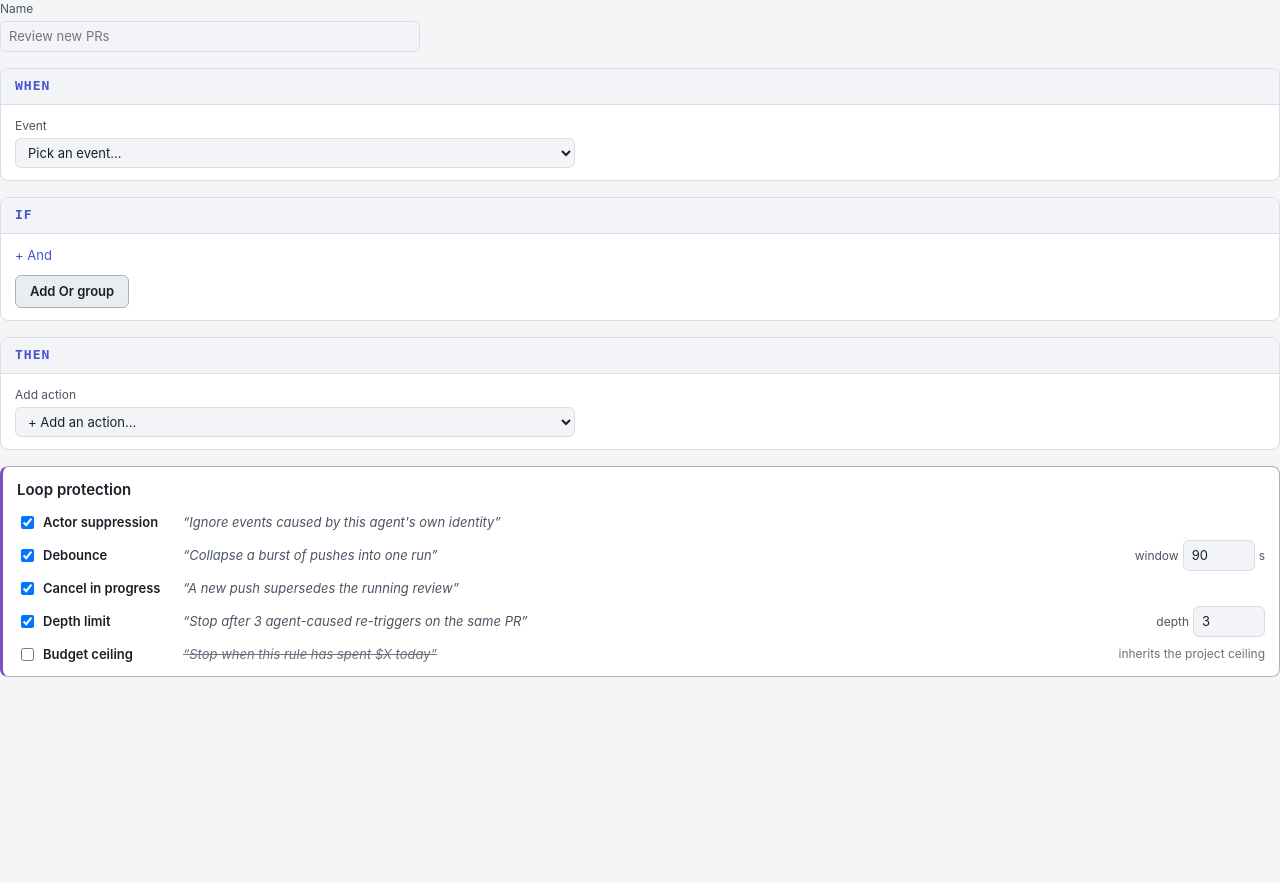
Test: catalog-driven editor › renders the novel action's schema and its interpolation picker
The width and height of the screenshot is (1280, 883).
Select "Storm warning" in the dropdown labelled "Event": (295, 154) [15,138,575,168]
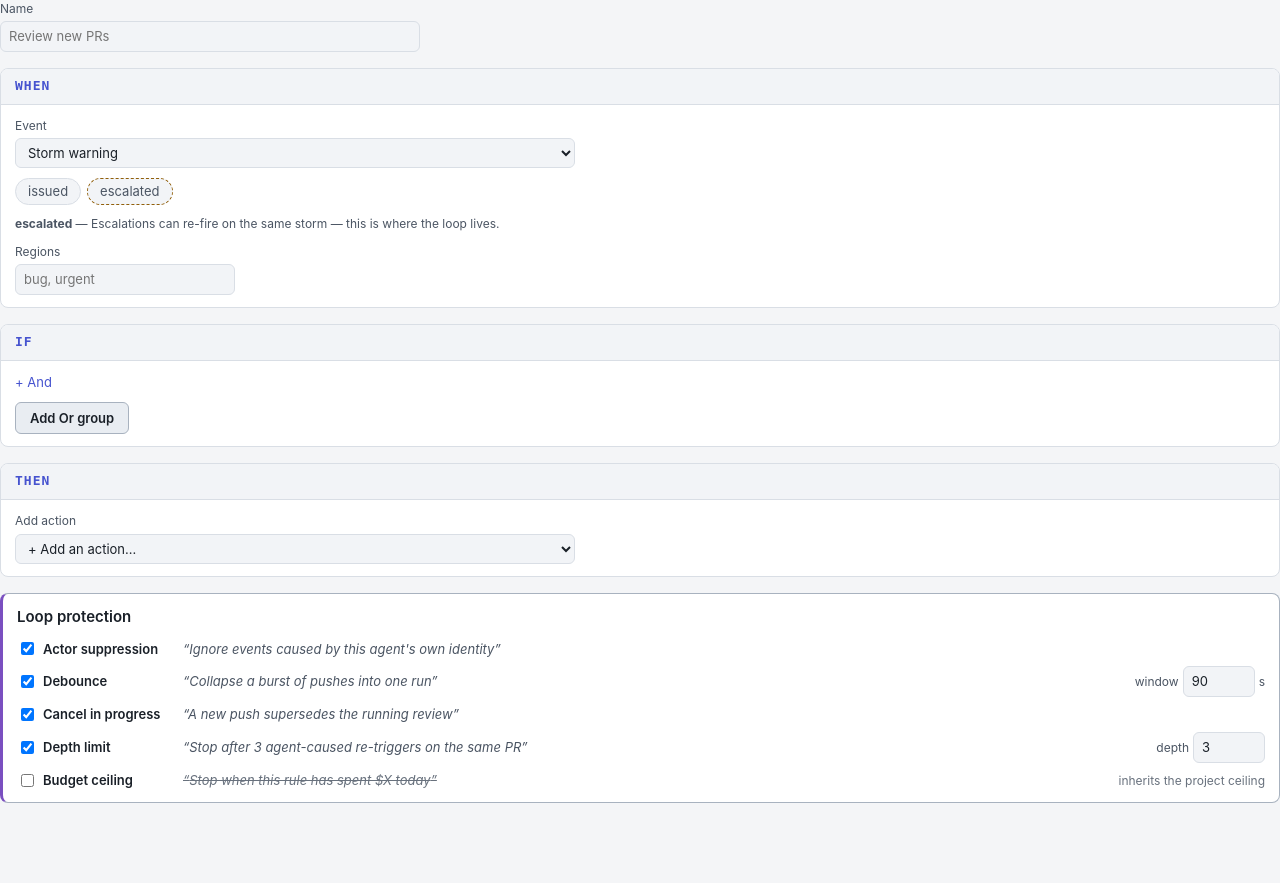
Select "Sound the alarm" in the dropdown labelled "Add action": (295, 549) [15,534,575,564]
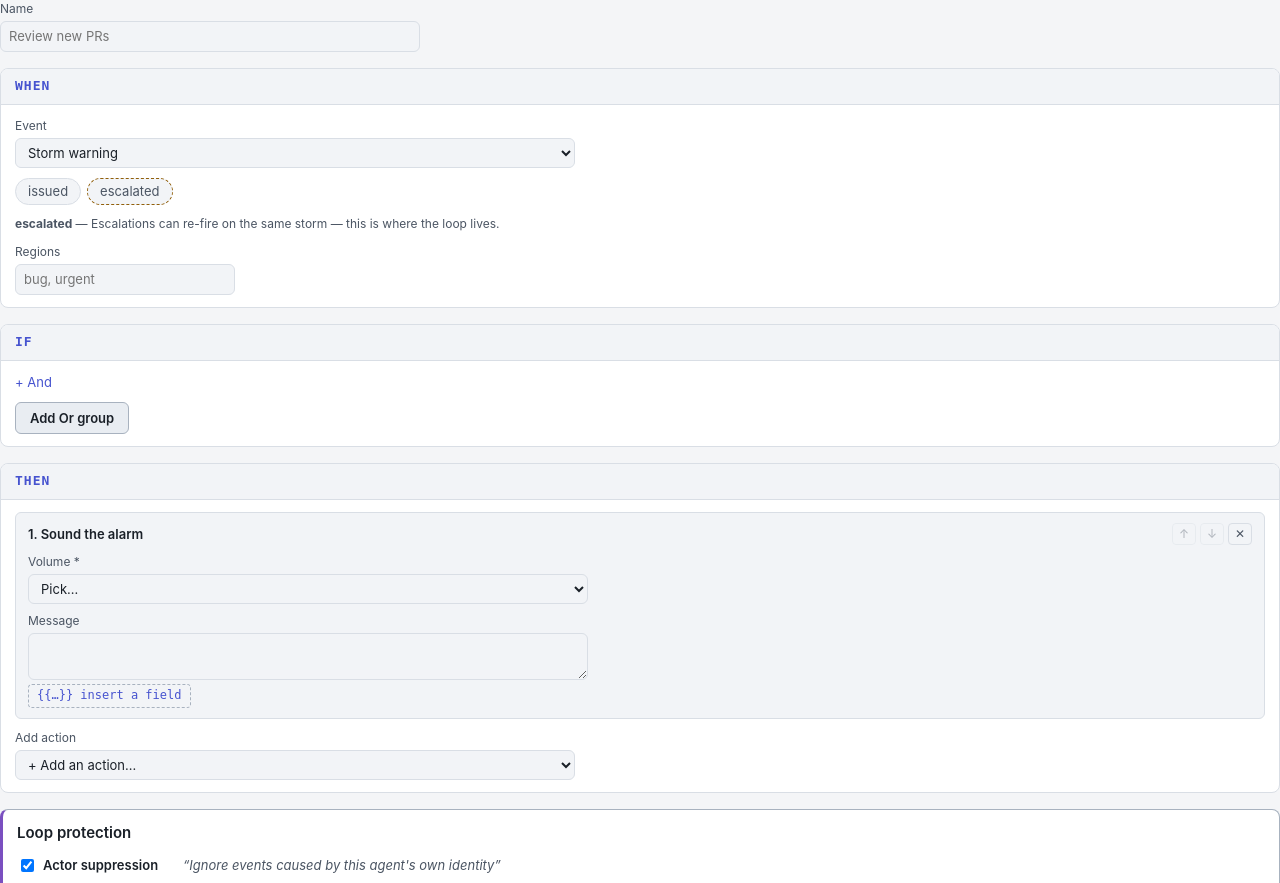
Click the button "{{…}} insert a field": (109, 696) [28,684,190,708]
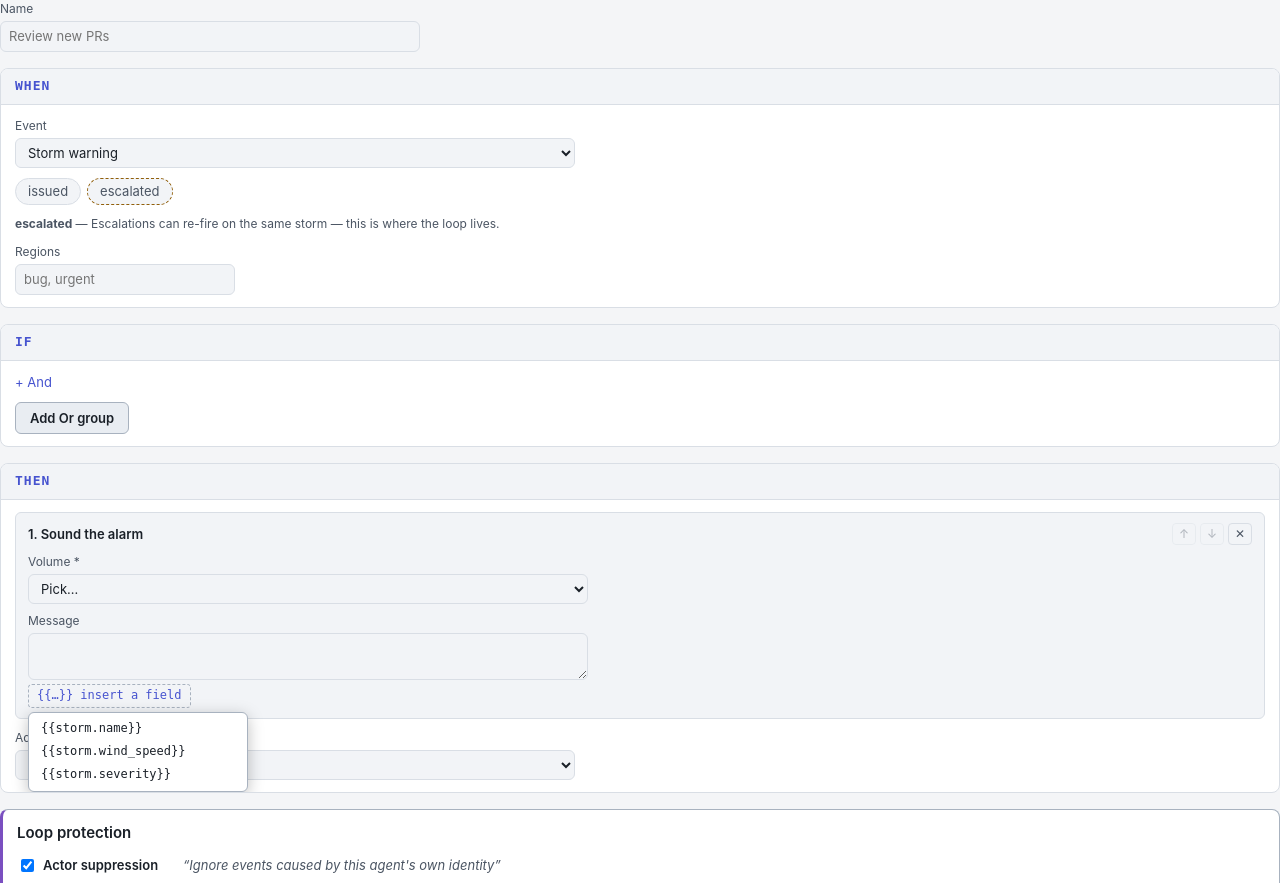
Click the menu item "{{storm.name}}": (138, 728) [33,717,243,740]
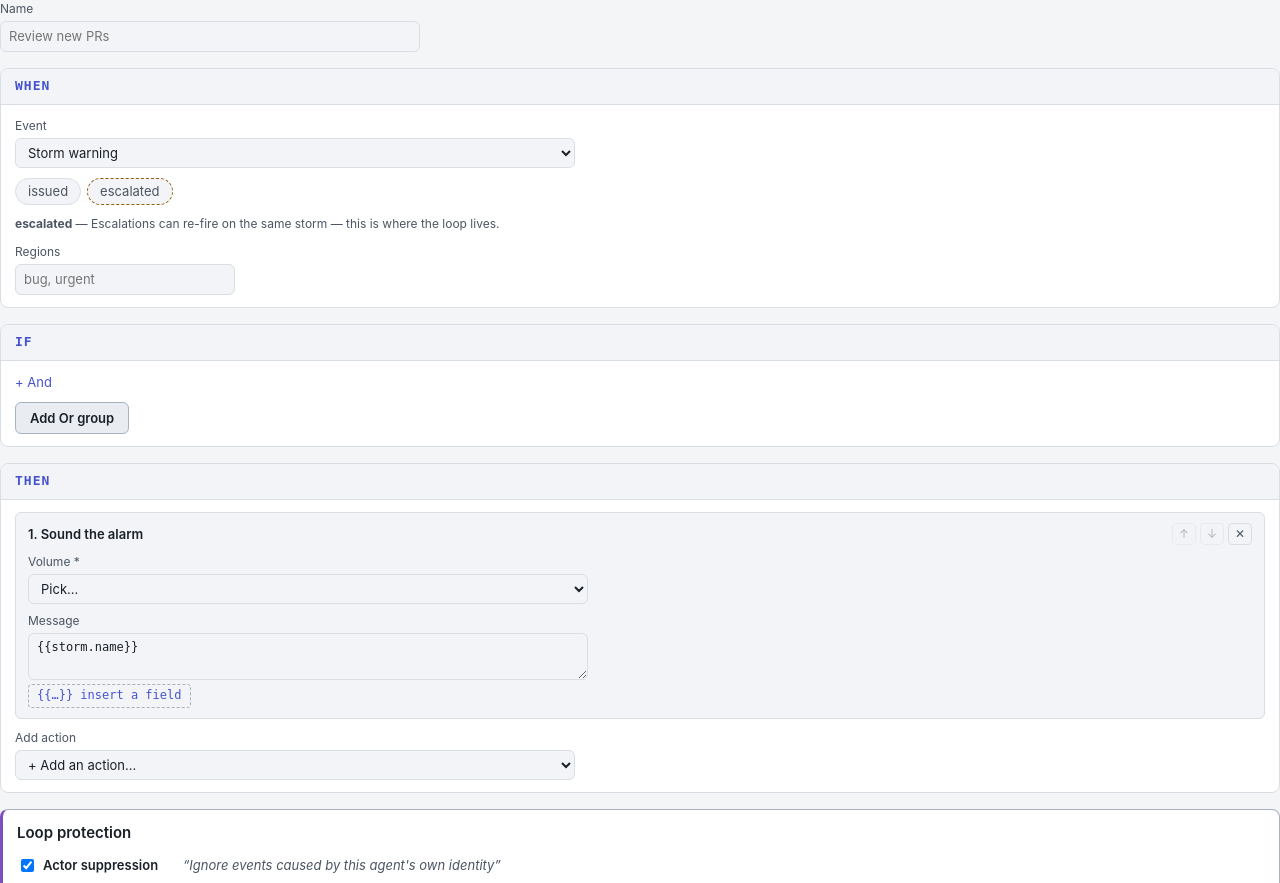
Expected: the text box labelled "Message" holds "{{storm.name}}", [28,634,588,680]
